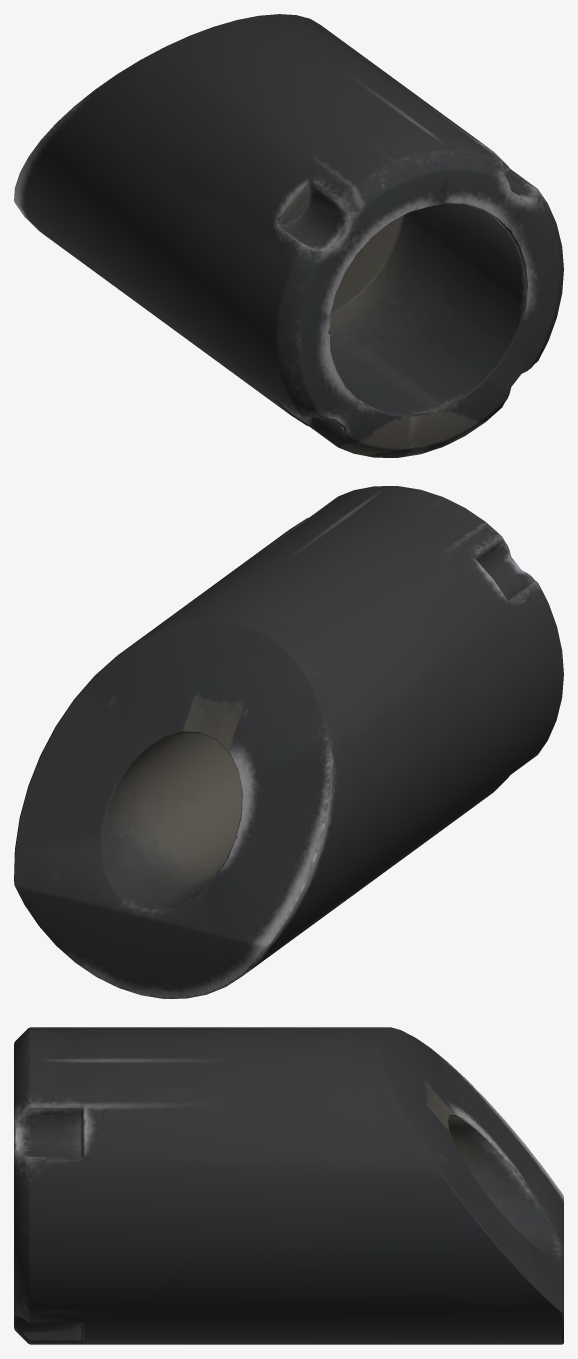
Rendered from freio_ak.glb.
The picture shows the model from 3 angles, top to bottom: view 1: azimuth 30°, elevation 25°; view 2: azimuth 150°, elevation 25°; view 3: azimuth 270°, elevation 25°; orthographic projection. The views are drawn at different scales.
Visible parts, largest first — view 1: freio_ak_freio; view 2: freio_ak_freio; view 3: freio_ak_freio.
Boxes of the visible parts, box(x1,y1,x2,y2) form: freio_ak_freio: box(14, 14, 563, 457); freio_ak_freio: box(14, 486, 563, 998); freio_ak_freio: box(14, 1027, 563, 1344).
Bounding box in the file's own units: 0.0208 × 0.0208 × 0.036.
Materials: 1 (1 with a texture image).
